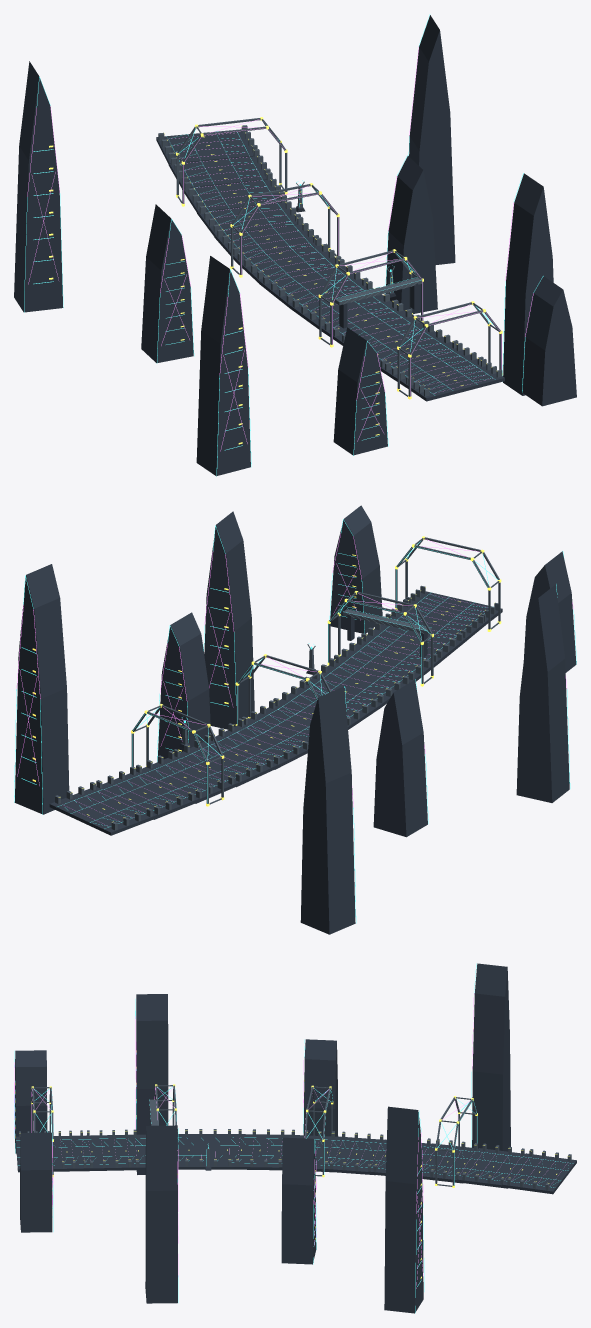
File: route_batch_0.glb
3 renders of one model, top to bottom at view 1: azimuth 30°, elevation 25°; view 2: azimuth 150°, elevation 25°; view 3: azimuth 270°, elevation 25°, orthographic. The views are drawn at different scales.
Visible parts, largest first — view 1: route_batch_0; view 2: route_batch_0; view 3: route_batch_0.
Boxes of the visible parts, x1,y1,x2,y2 form: route_batch_0: (14,14,576,476); route_batch_0: (14,505,576,934); route_batch_0: (14,963,576,1313).
Bounding box in the file's own units: 515 × 306 × 752.
